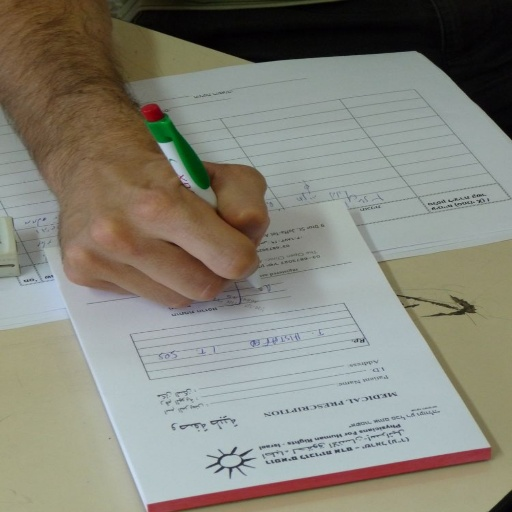hand: (28, 137, 300, 309)
